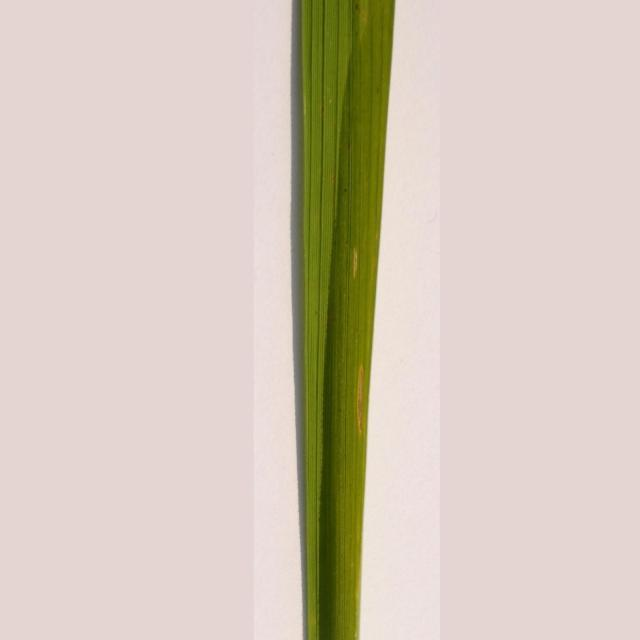leaf blight: (340, 244, 377, 465)
